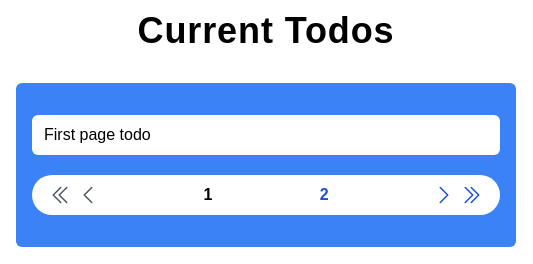
Scenario: will render the pagination › will change the todo list when clicking the start and end button
The image size is (533, 264).
Expected: the button named "start page" is disabled, [48,183,72,207]
Click the button named "end page".
click(472, 195)  # box [460,183,484,207]
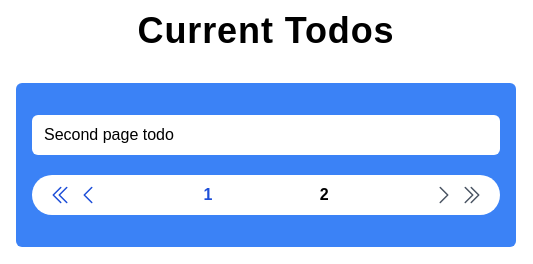
Expected: the link "Second page todo" is shown, [32,115,500,155]
Expected: the button named "end page" is disabled, [460,183,484,207]
Click the button named "start page".
click(60, 195)  # box [48,183,72,207]
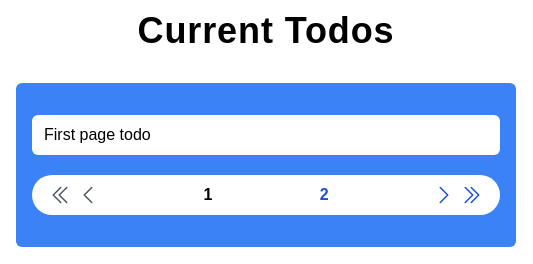
Expected: the link "First page todo" is shown, [32,115,500,155]
